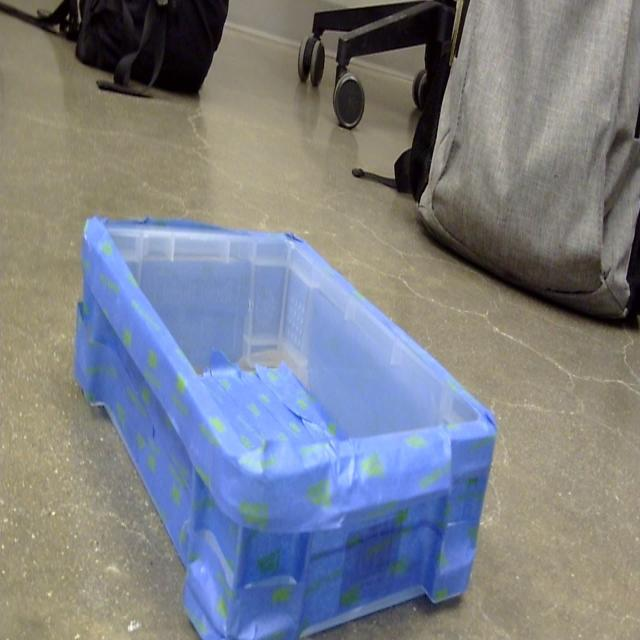bucket: (72, 217, 499, 640)
